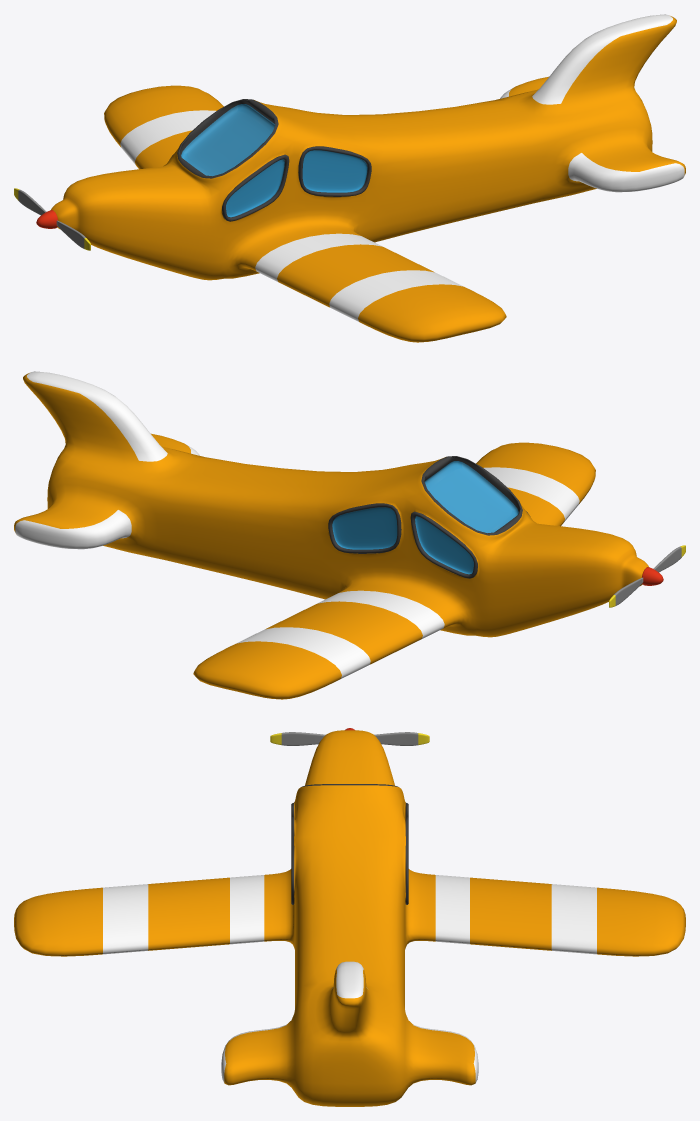
Rendered from styloo-planesty-003.glb.
3 views of the same model, one above another, from view 1: azimuth 30°, elevation 25°; view 2: azimuth 150°, elevation 25°; view 3: azimuth 270°, elevation 25° (orthographic). The views are drawn at different scales.
Visible parts, largest first — view 1: Cube.018, Cube.019; view 2: Cube.018, Cube.019; view 3: Cube.018, Cube.019.
Boxes of the visible parts, x1=… form: Cube.018: x1=51, y1=14, x2=685, y2=342; Cube.019: x1=14, y1=188, x2=90, y2=250; Cube.018: x1=14, y1=371, x2=648, y2=699; Cube.019: x1=609, y1=545, x2=685, y2=607; Cube.018: x1=14, y1=730, x2=685, y2=1106; Cube.019: x1=270, y1=728, x2=429, y2=745.
Bounding box in the file's own units: 8.29 × 1.82 × 7.29.
1 material, 1 textured.
